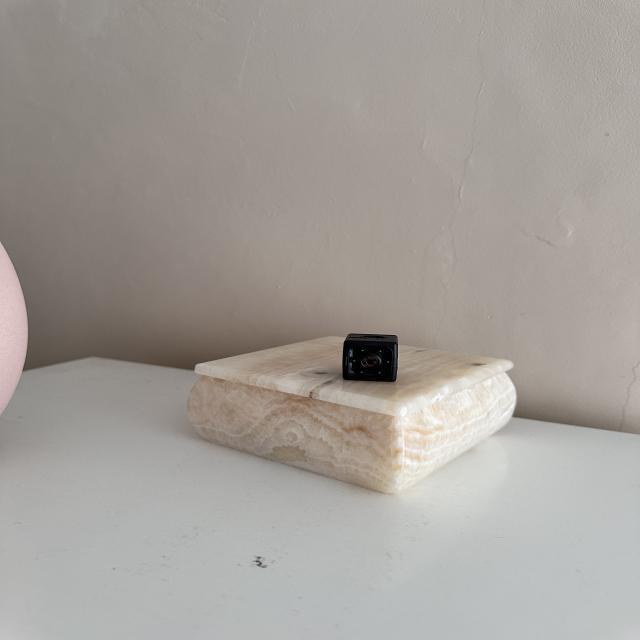hidden camera: (361, 355, 378, 368)
